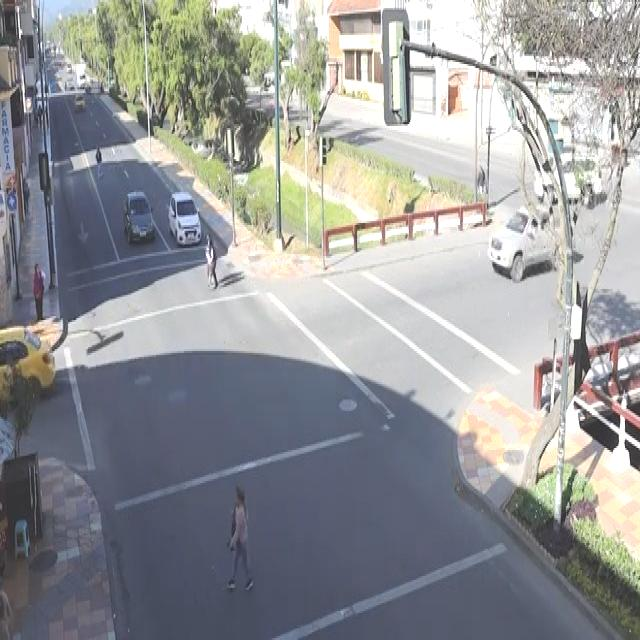CMT: (486, 205, 570, 280)
